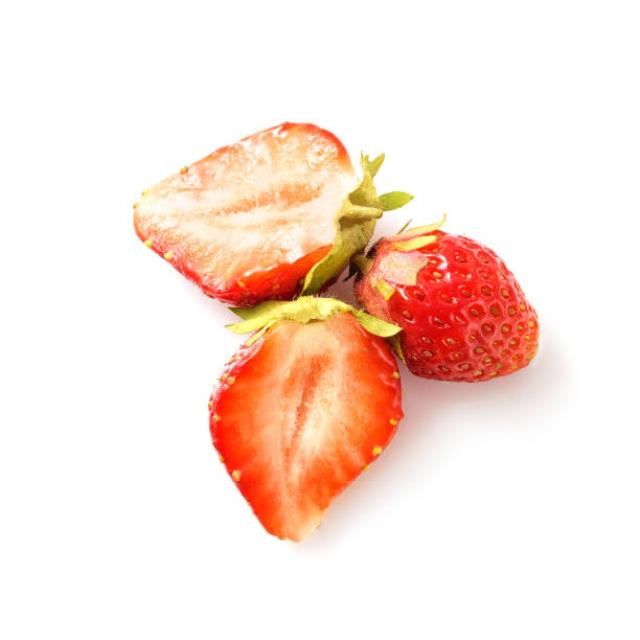Healthy Fruit: (210, 313, 400, 539), (132, 121, 360, 304), (363, 229, 540, 382)
